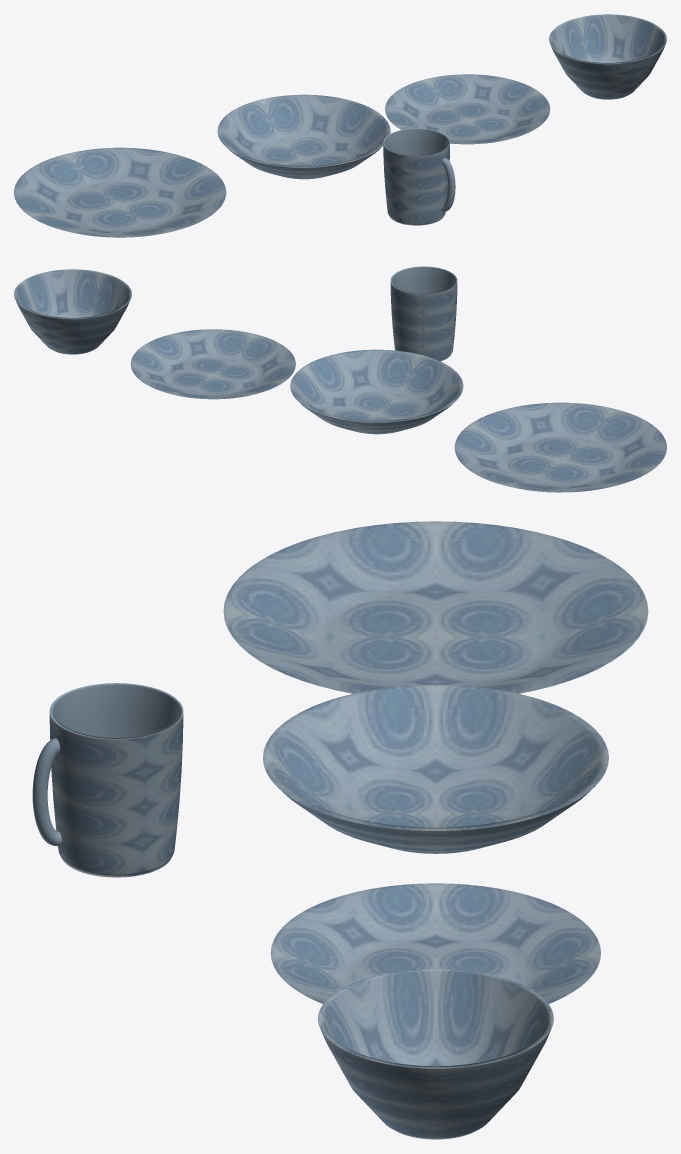
3 renders of one model, top to bottom at view 1: azimuth 30°, elevation 25°; view 2: azimuth 150°, elevation 25°; view 3: azimuth 270°, elevation 25°, orthographic. The views are drawn at different scales.
Size of the model in its own units: 0.926 by 0.1 by 0.3913.
11 materials, 9 textured.
